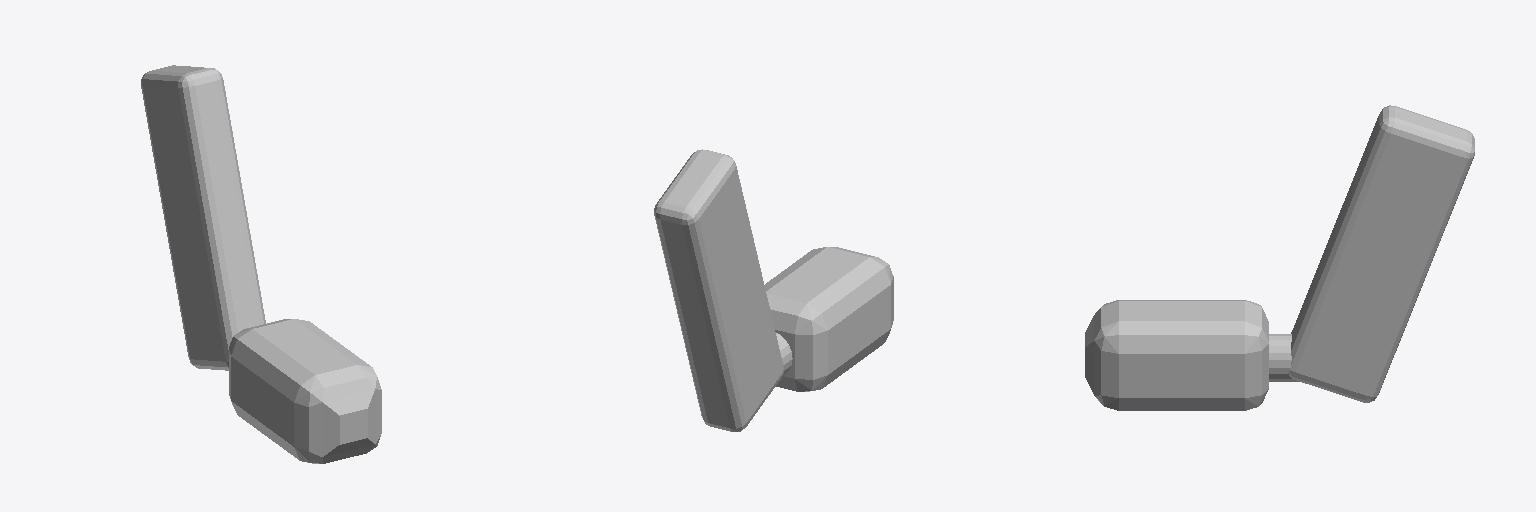
The model's file is Drone_leftlowerarm.obj.
3 views of the same model, side by side, from view 1: azimuth 30°, elevation 25°; view 2: azimuth 150°, elevation 25°; view 3: azimuth 270°, elevation 25° (orthographic).
Parts seen in each view (by area): view 1: Left_Upper_Arm, Left_Upper_Arm Left_Elbow Left_Hand; view 2: Left_Upper_Arm, Left_Upper_Arm Left_Elbow Left_Hand; view 3: Left_Upper_Arm, Left_Upper_Arm Left_Elbow Left_Hand, Left_Upper_Arm Left_Elbow.
Part boxes in pixels (bbox=[...]): Left_Upper_Arm: bbox=[141, 65, 265, 370]; Left_Upper_Arm Left_Elbow Left_Hand: bbox=[229, 319, 381, 463]; Left_Upper_Arm: bbox=[654, 149, 783, 431]; Left_Upper_Arm Left_Elbow Left_Hand: bbox=[765, 247, 893, 391]; Left_Upper_Arm: bbox=[1288, 105, 1474, 402]; Left_Upper_Arm Left_Elbow Left_Hand: bbox=[1085, 300, 1268, 410]; Left_Upper_Arm Left_Elbow: bbox=[1269, 334, 1298, 381].
Bounding box in the file's own units: 1 × 3.24 × 3.98.